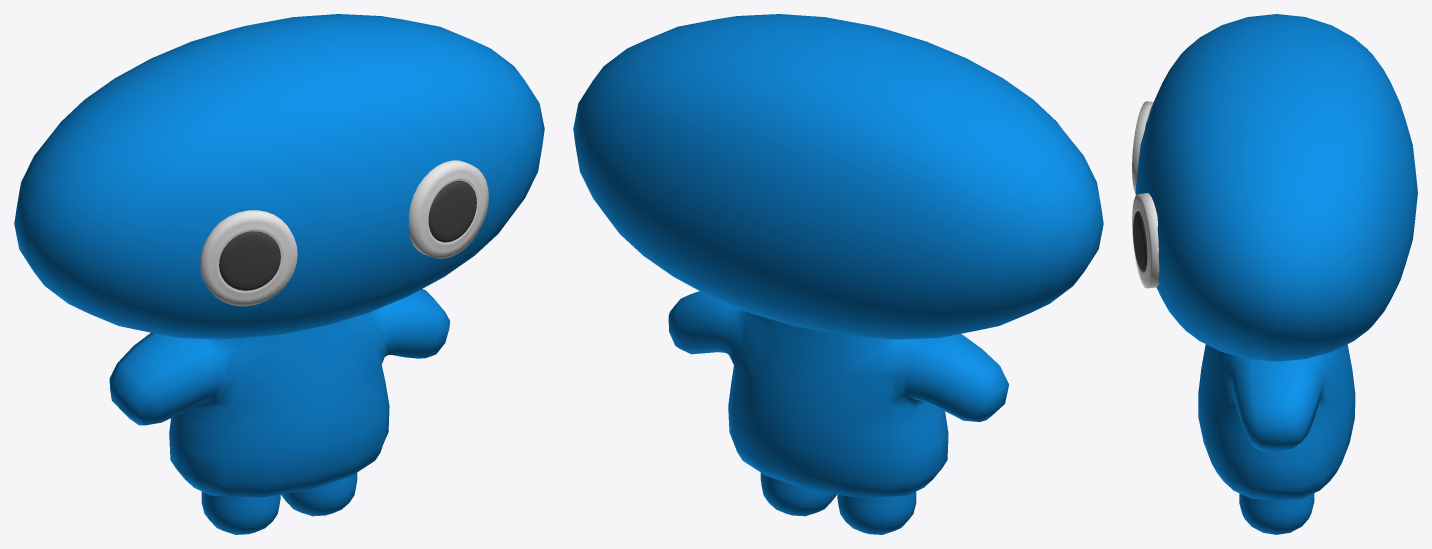
The model's file is nupjuk.gltf.
3 renders of one model, left to right at view 1: azimuth 30°, elevation 25°; view 2: azimuth 150°, elevation 25°; view 3: azimuth 270°, elevation 25°, orthographic. The views are drawn at different scales.
Parts seen in each view (by area): view 1: Cube.002; view 2: Cube.002; view 3: Cube.002.
Part boxes in pixels (x1,y1,x2,y2): Cube.002: (14,14,544,534); Cube.002: (573,14,1103,534); Cube.002: (1132,14,1417,534).
Bounding box in the file's own units: 0.5864 × 0.5308 × 0.3026.
